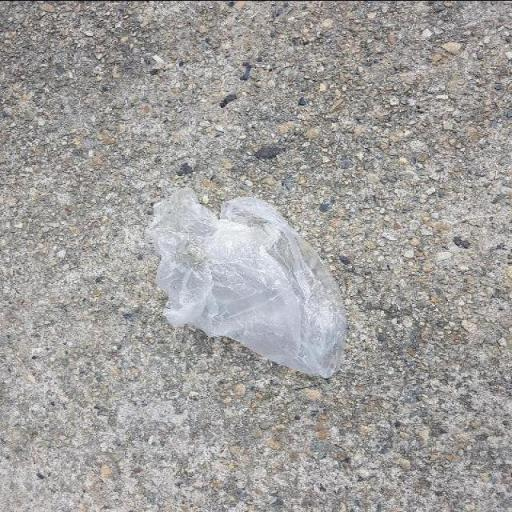plastic-bag: (146, 184, 348, 378)
